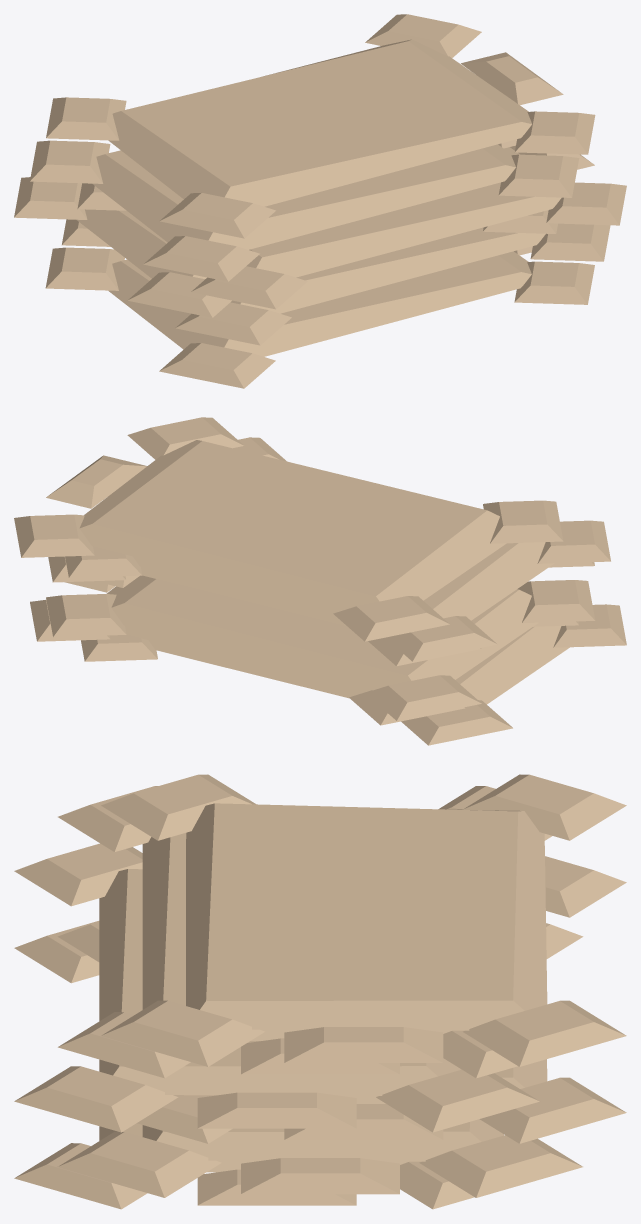
Rendered from item_013_hide_wrap_l.glb.
The picture shows the model from 3 angles, top to bottom: view 1: azimuth 30°, elevation 25°; view 2: azimuth 150°, elevation 25°; view 3: azimuth 270°, elevation 25°; orthographic projection. The views are drawn at different scales.
Visible parts, largest first — view 1: item_013_hide_wrap_l; view 2: item_013_hide_wrap_l; view 3: item_013_hide_wrap_l.
Part boxes in pixels (x1,y1,x2,y2): item_013_hide_wrap_l: (14,14,626,388); item_013_hide_wrap_l: (14,417,626,745); item_013_hide_wrap_l: (14,774,626,1209).
Bounding box in the file's own units: 1.03 × 0.291 × 0.8476.
